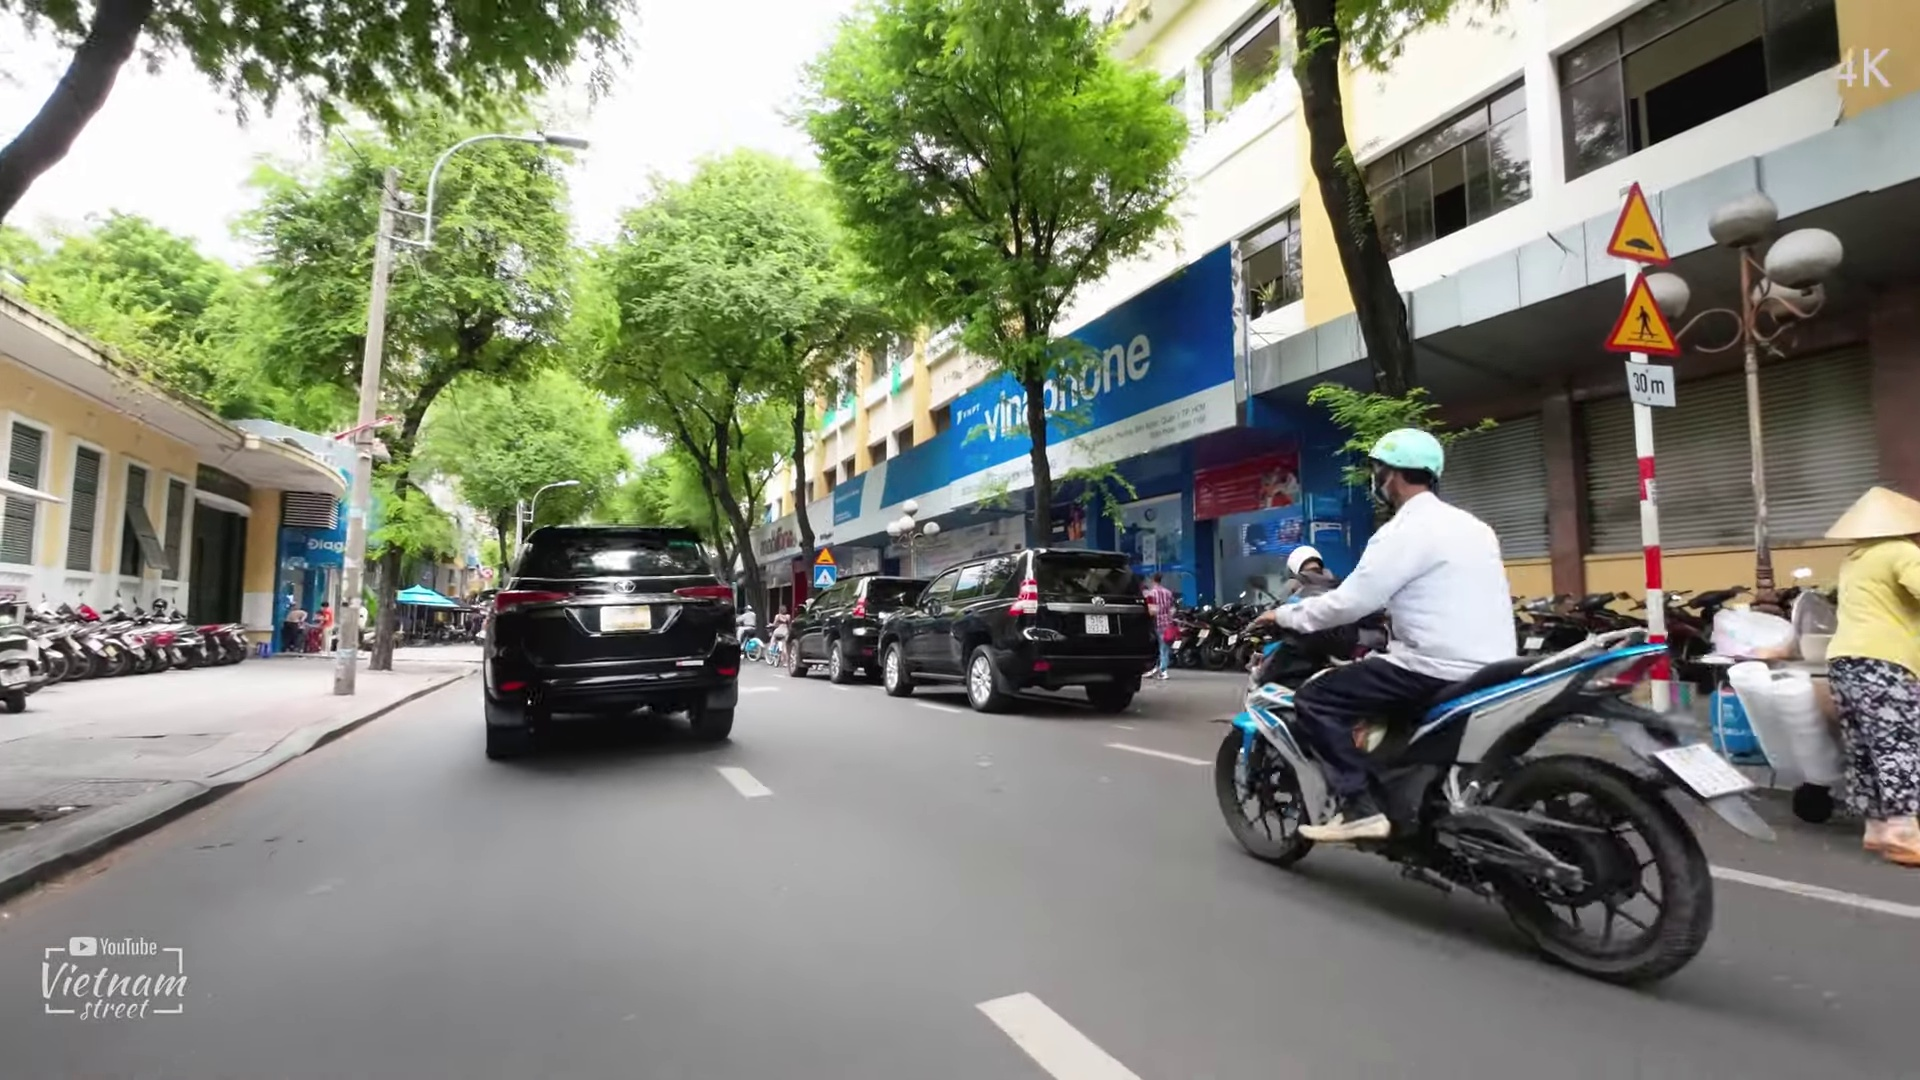can_than_nguoi_qua_duong: (1594, 266, 1687, 355)
